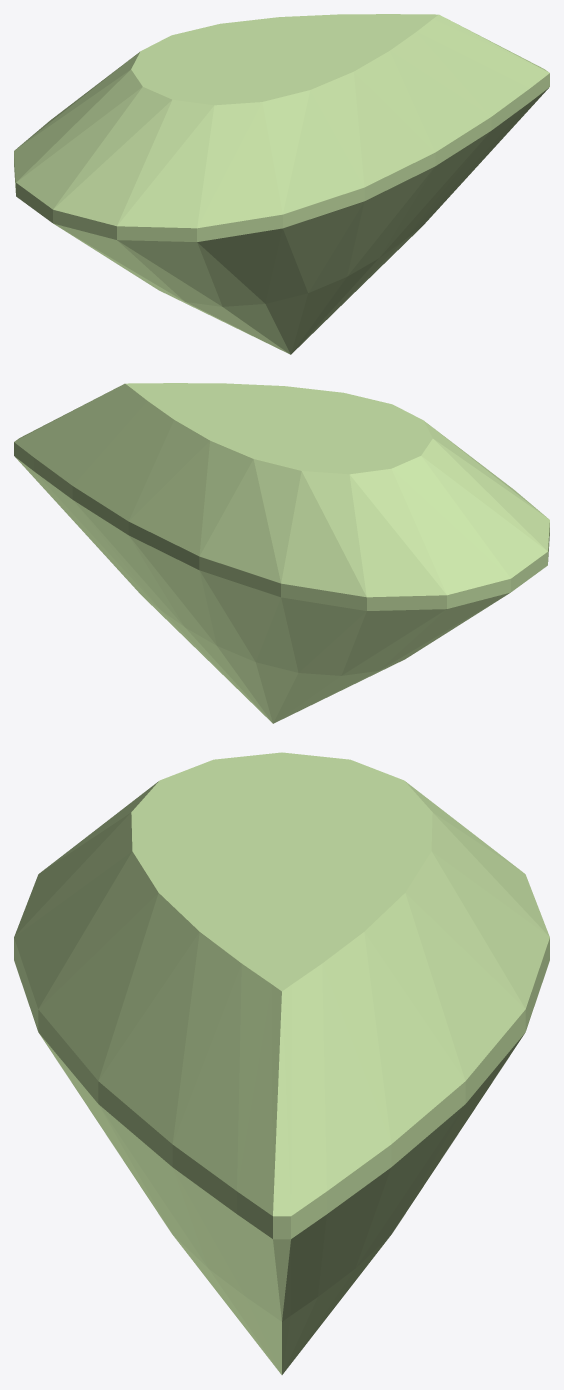
Rendered from peridot.glb.
3 views of the same model, one above another, from view 1: azimuth 30°, elevation 25°; view 2: azimuth 150°, elevation 25°; view 3: azimuth 270°, elevation 25° (orthographic). The views are drawn at different scales.
Parts seen in each view (by area): view 1: peridot; view 2: peridot; view 3: peridot.
Boxes of the visible parts, x1,y1,x2,y2 form: peridot: [14, 14, 549, 354]; peridot: [14, 383, 549, 723]; peridot: [14, 752, 549, 1374].
Size of the model in its own units: 0.25 by 0.1418 by 0.1368.
